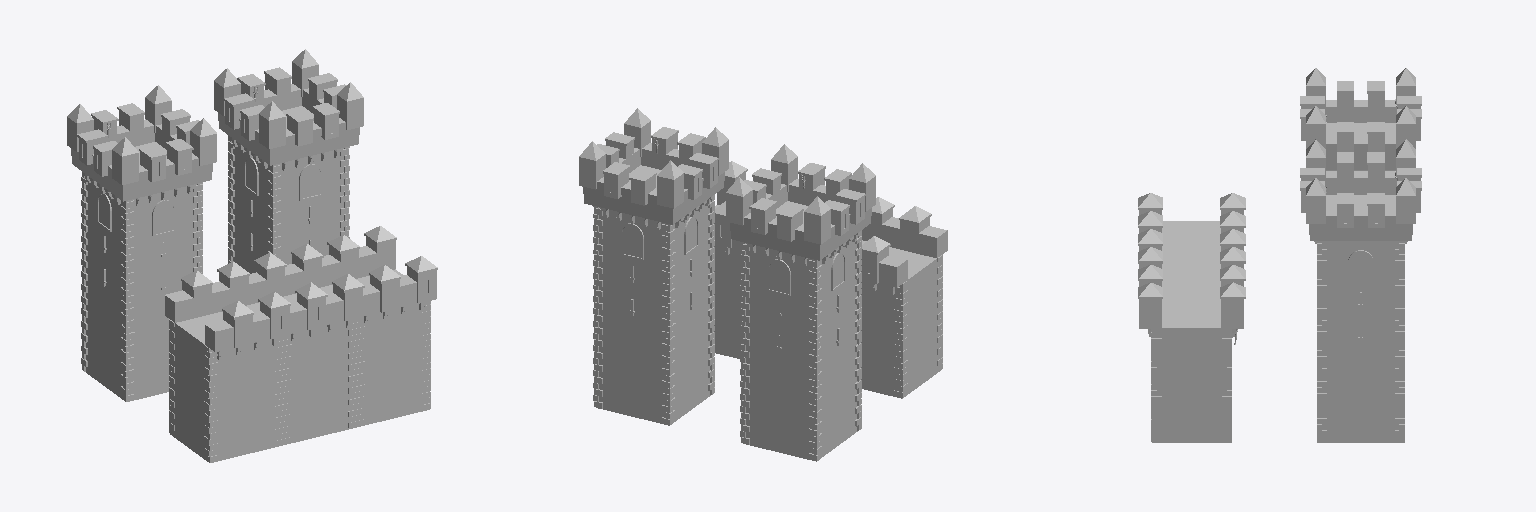
The model's file is TJunction.obj.
The picture shows the model from 3 angles: view 1: azimuth 30°, elevation 25°; view 2: azimuth 150°, elevation 25°; view 3: azimuth 270°, elevation 25°; orthographic projection.
Visible parts, largest first — view 1: TJunction_Cube.012; view 2: TJunction_Cube.012; view 3: TJunction_Cube.012.
Part boxes in pixels (left/top/right/bottom): TJunction_Cube.012: left=67, top=49, right=437, bottom=462; TJunction_Cube.012: left=579, top=108, right=947, bottom=461; TJunction_Cube.012: left=1138, top=68, right=1421, bottom=442.
Bounding box in the file's own units: 13.74 × 13.91 × 13.38.